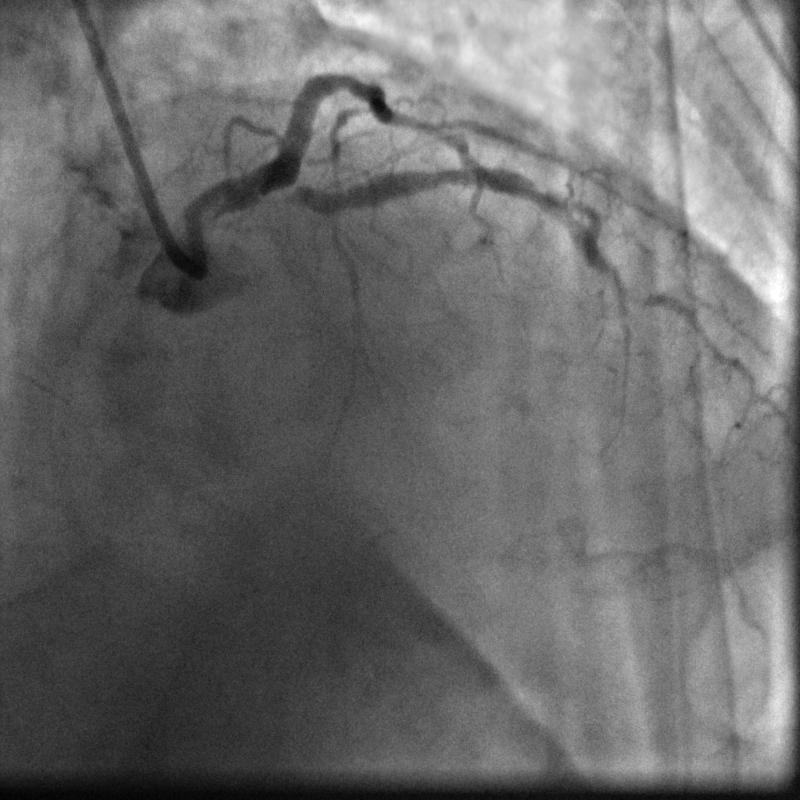Stenosis: (273, 173, 308, 218)
